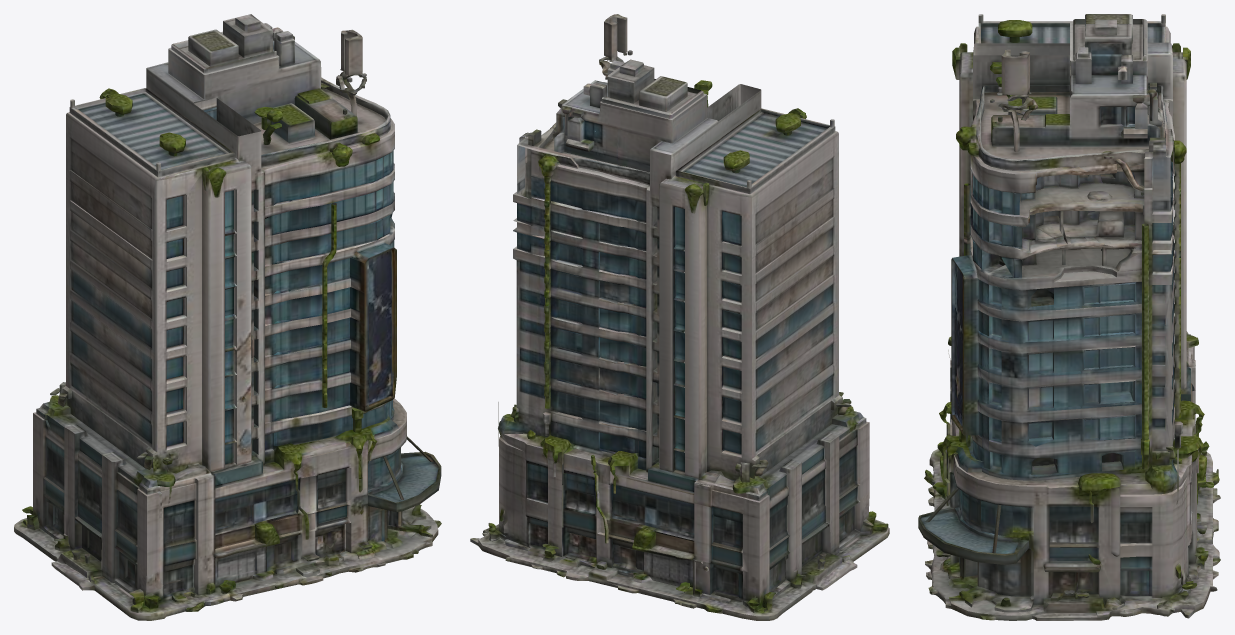
File: curved-glass-office.glb
3 renders of one model, left to right at view 1: azimuth 30°, elevation 25°; view 2: azimuth 150°, elevation 25°; view 3: azimuth 270°, elevation 25°, orthographic. The views are drawn at different scales.
Visible parts, largest first — view 1: tripo_node_c93ad701-fdf2-403c-b747-c14134b6d293; view 2: tripo_node_c93ad701-fdf2-403c-b747-c14134b6d293; view 3: tripo_node_c93ad701-fdf2-403c-b747-c14134b6d293.
Part boxes in pixels (x1=…): tripo_node_c93ad701-fdf2-403c-b747-c14134b6d293: x1=14, y1=14, x2=441, y2=620; tripo_node_c93ad701-fdf2-403c-b747-c14134b6d293: x1=470, y1=14, x2=889, y2=620; tripo_node_c93ad701-fdf2-403c-b747-c14134b6d293: x1=918, y1=14, x2=1220, y2=620.
Size of the model in its own units: 0.7084 by 1 by 0.5186.
Materials: 1 (1 with a texture image).
